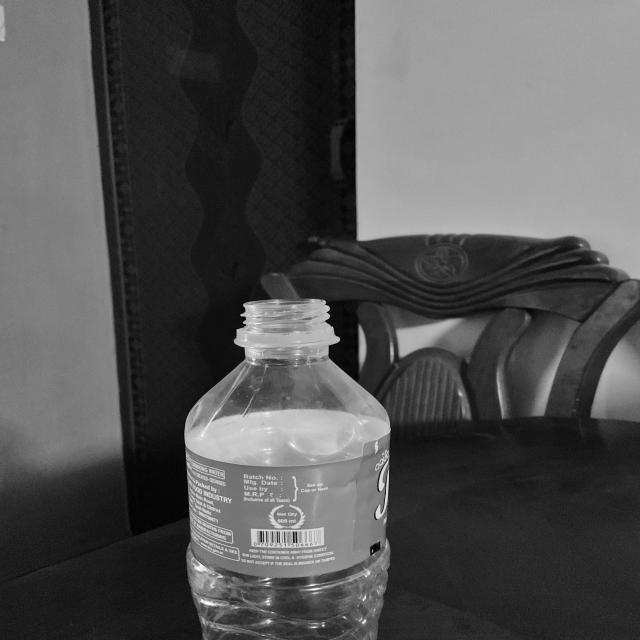open-cap: (238, 293, 337, 345)
